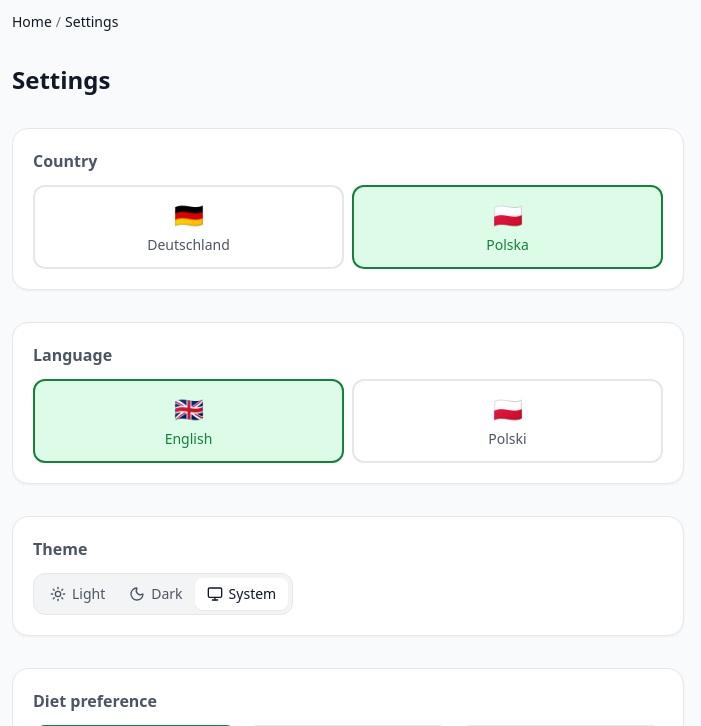
Test: SettingsPage › auto-switches language when country changes
# Switch to Germany
Click the text "Deutschland": (188, 244) [147,235,230,254]
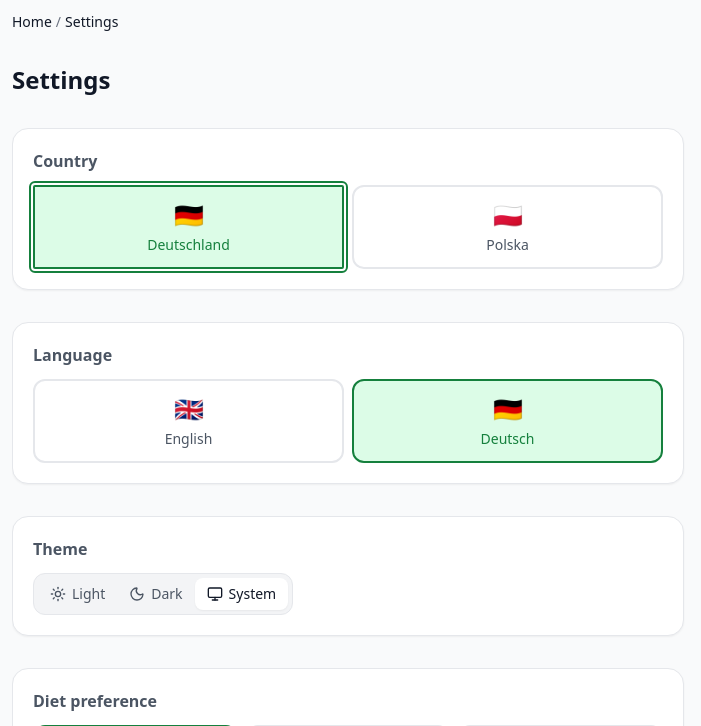
Check: the text "English" is shown, box [165,429,212,448]
Check: the text "Deutsch" is shown, box [480,429,534,448]
Check: the button "Polski" is gone
